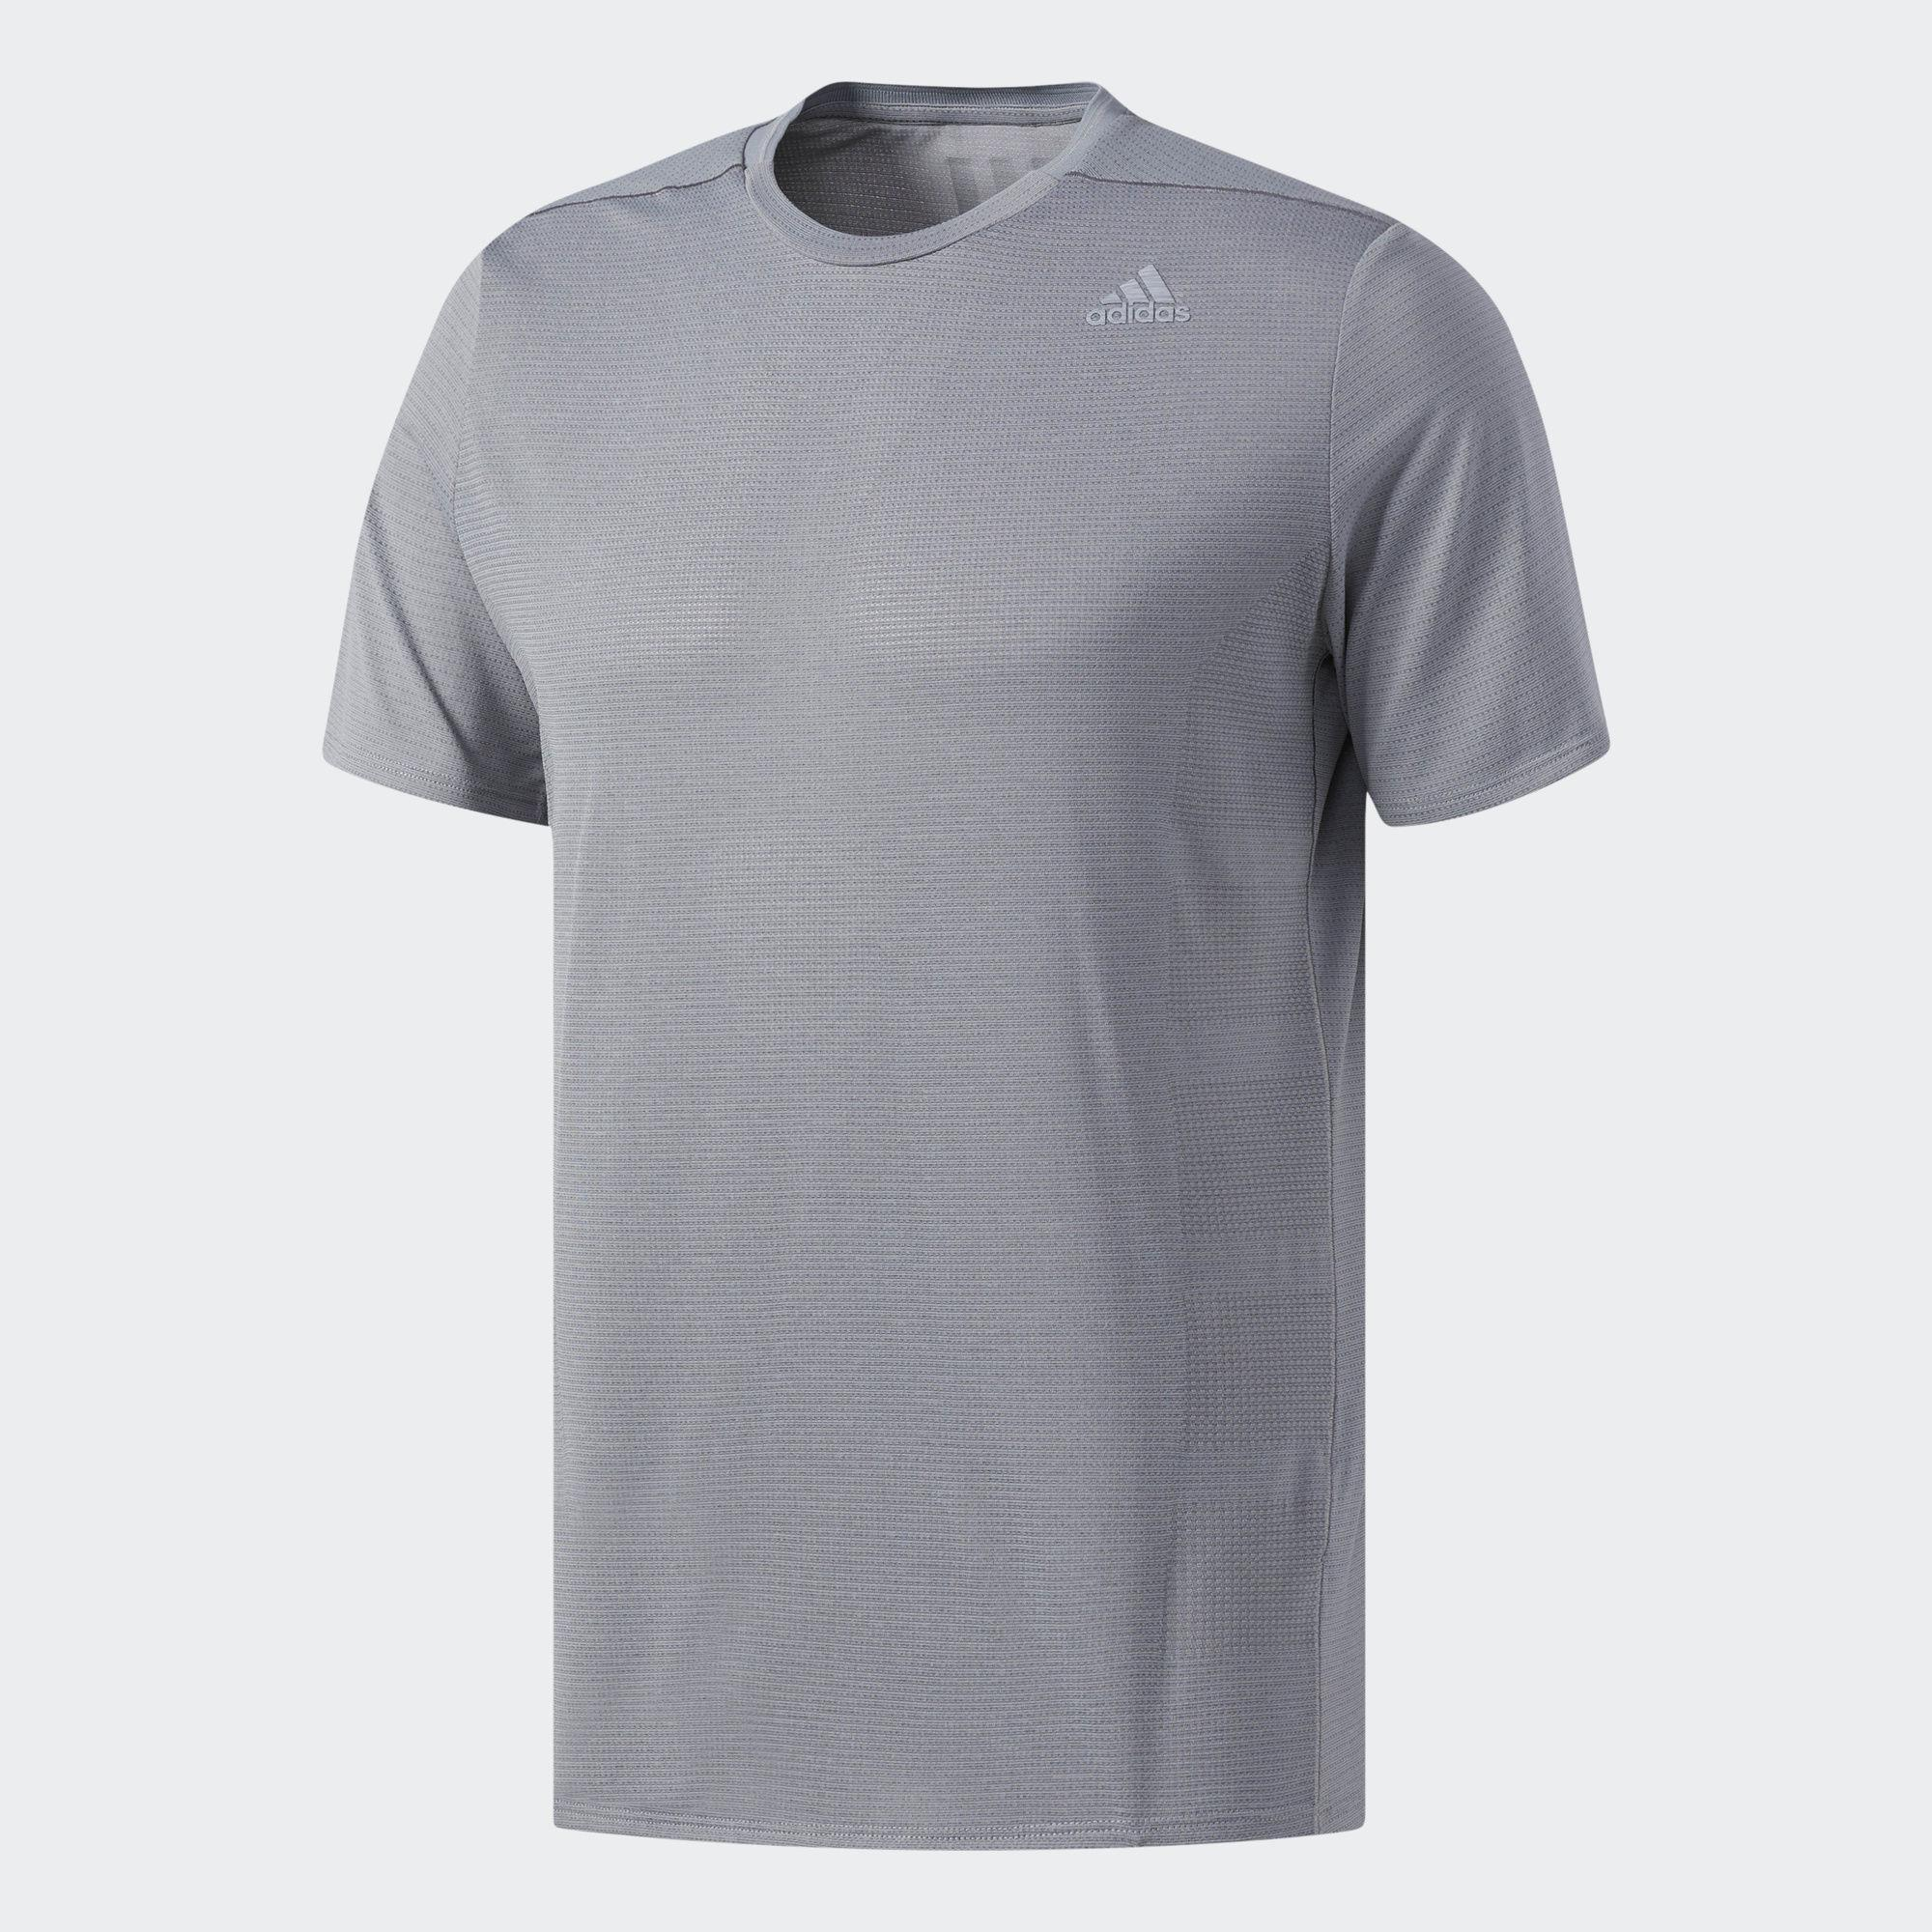teeshirt: (294, 69, 1681, 1932)
